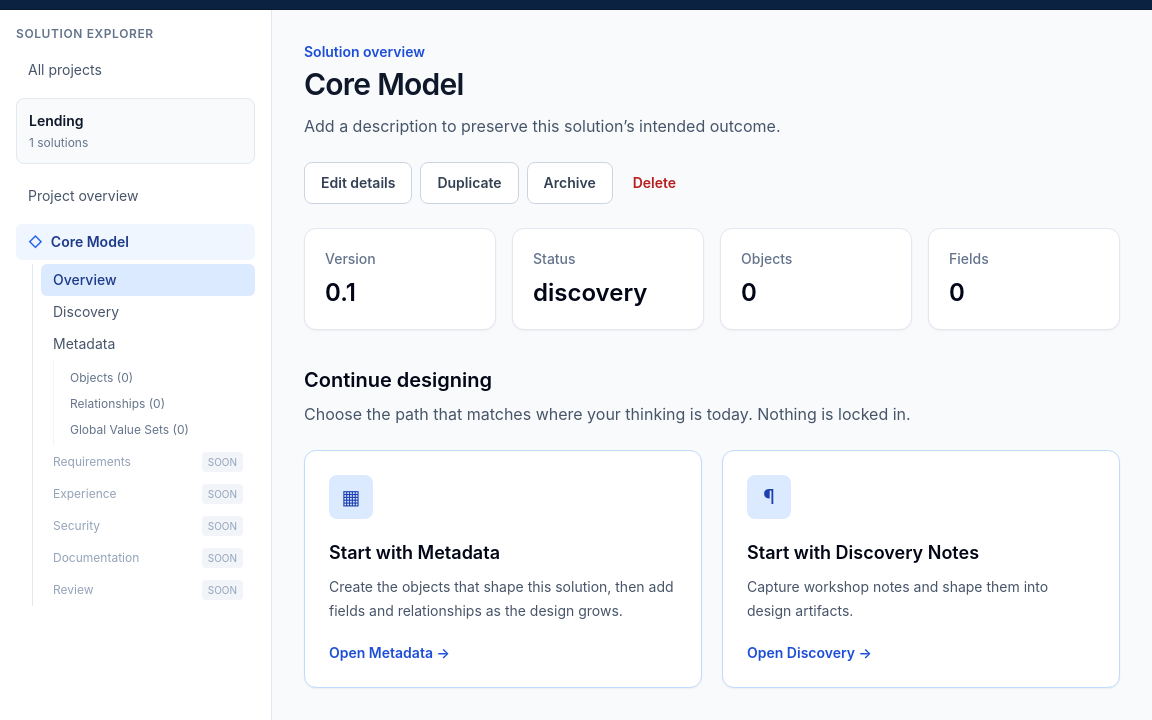
it: App › opens Discovery from the solution workspace
This screenshot has width=1152, height=720.
(page scrolled)
Click the button "Start with Discovery Notes" at (769,497), box top-left (722, 450), bottom-right (1120, 688)
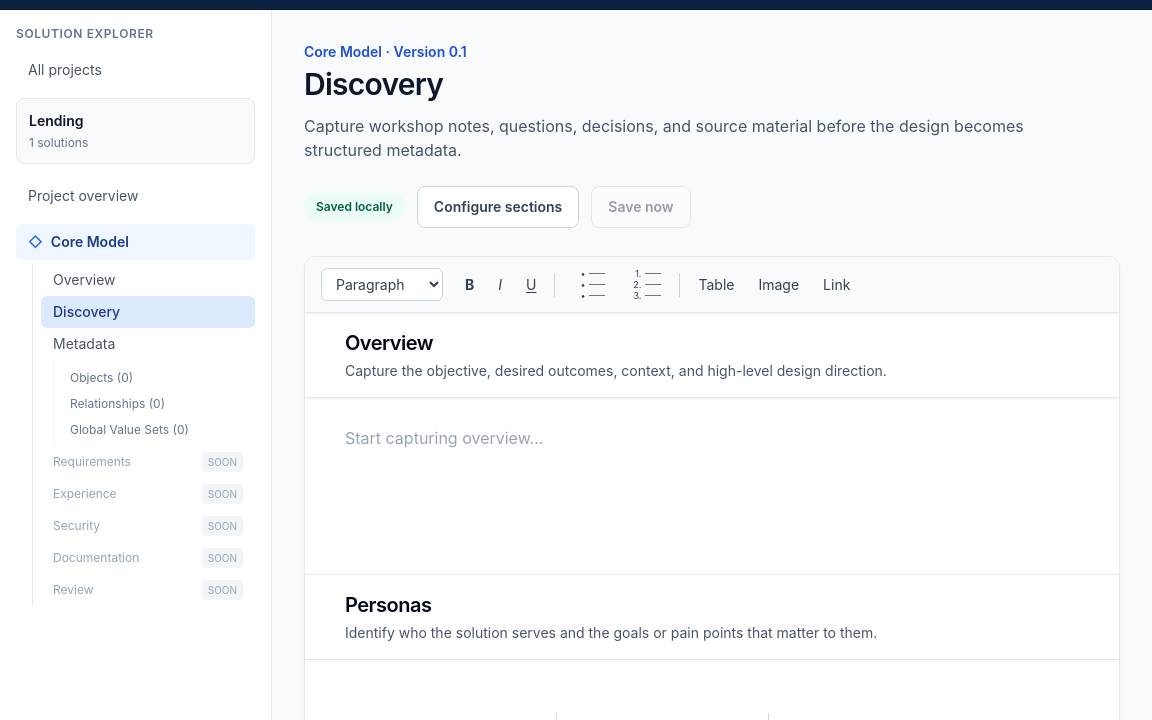
Now the heading "Discovery" is shown, box top-left (304, 66), bottom-right (443, 102)
Now the field named "Overview discovery section" is shown, box top-left (305, 398), bottom-right (1119, 574)
